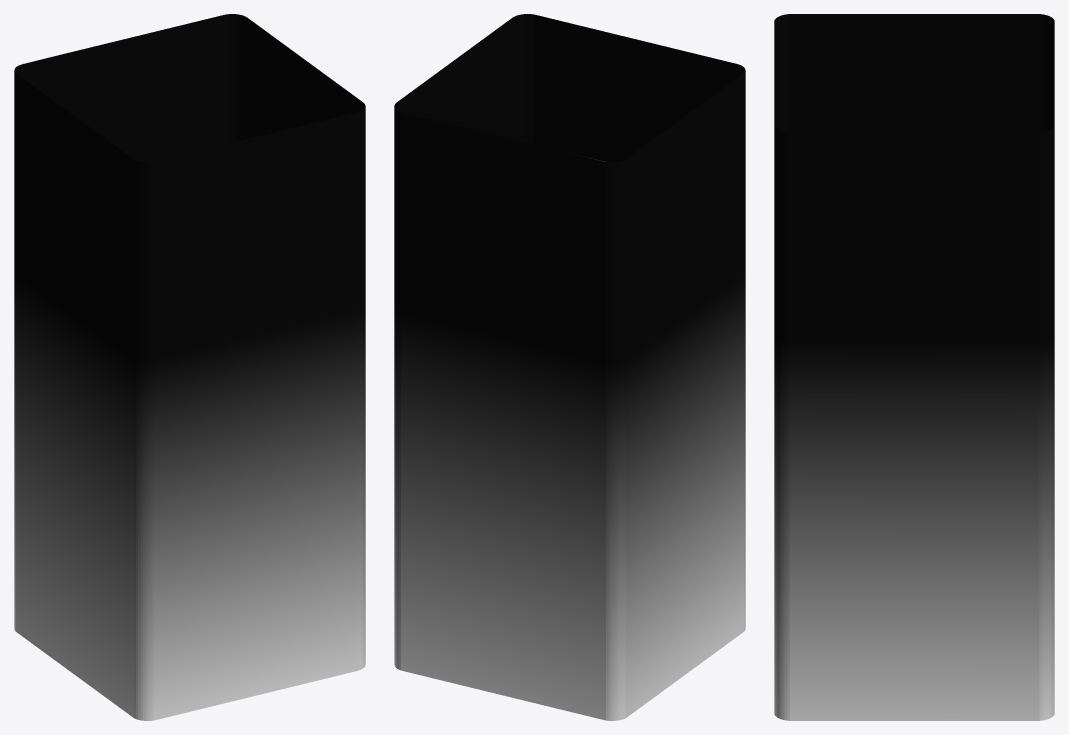
Rendered from portalbeam.fbx.
3 views of the same model, side by side, from view 1: azimuth 30°, elevation 25°; view 2: azimuth 150°, elevation 25°; view 3: azimuth 270°, elevation 25° (orthographic). The views are drawn at different scales.
Parts seen in each view (by area): view 1: Cube.004; view 2: Cube.004; view 3: Cube.004.
Part boxes in pixels (left/top/right/bottom): Cube.004: left=14, top=14, right=365, bottom=720; Cube.004: left=394, top=14, right=745, bottom=720; Cube.004: left=774, top=14, right=1054, bottom=720.
Bounding box in the file's own units: 83.69 × 194 × 83.76.
